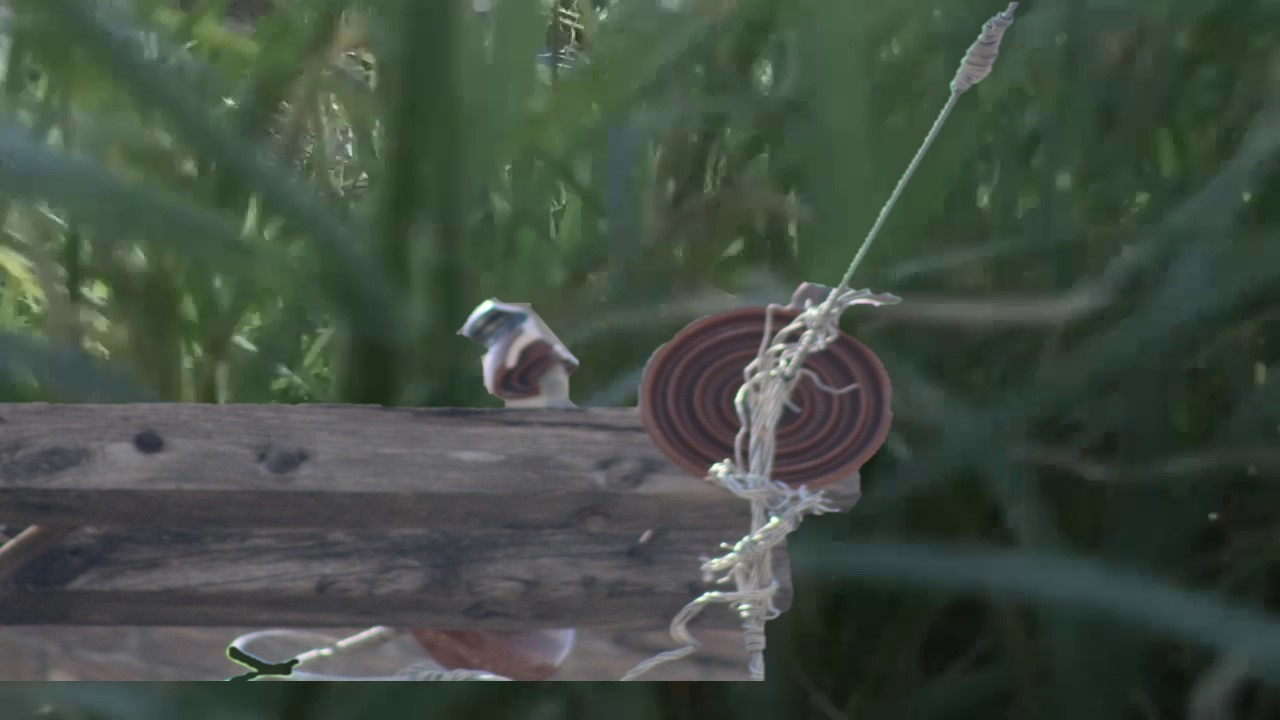defect_pin: (453, 291, 587, 419)
insulator_disc: (636, 298, 897, 508)
